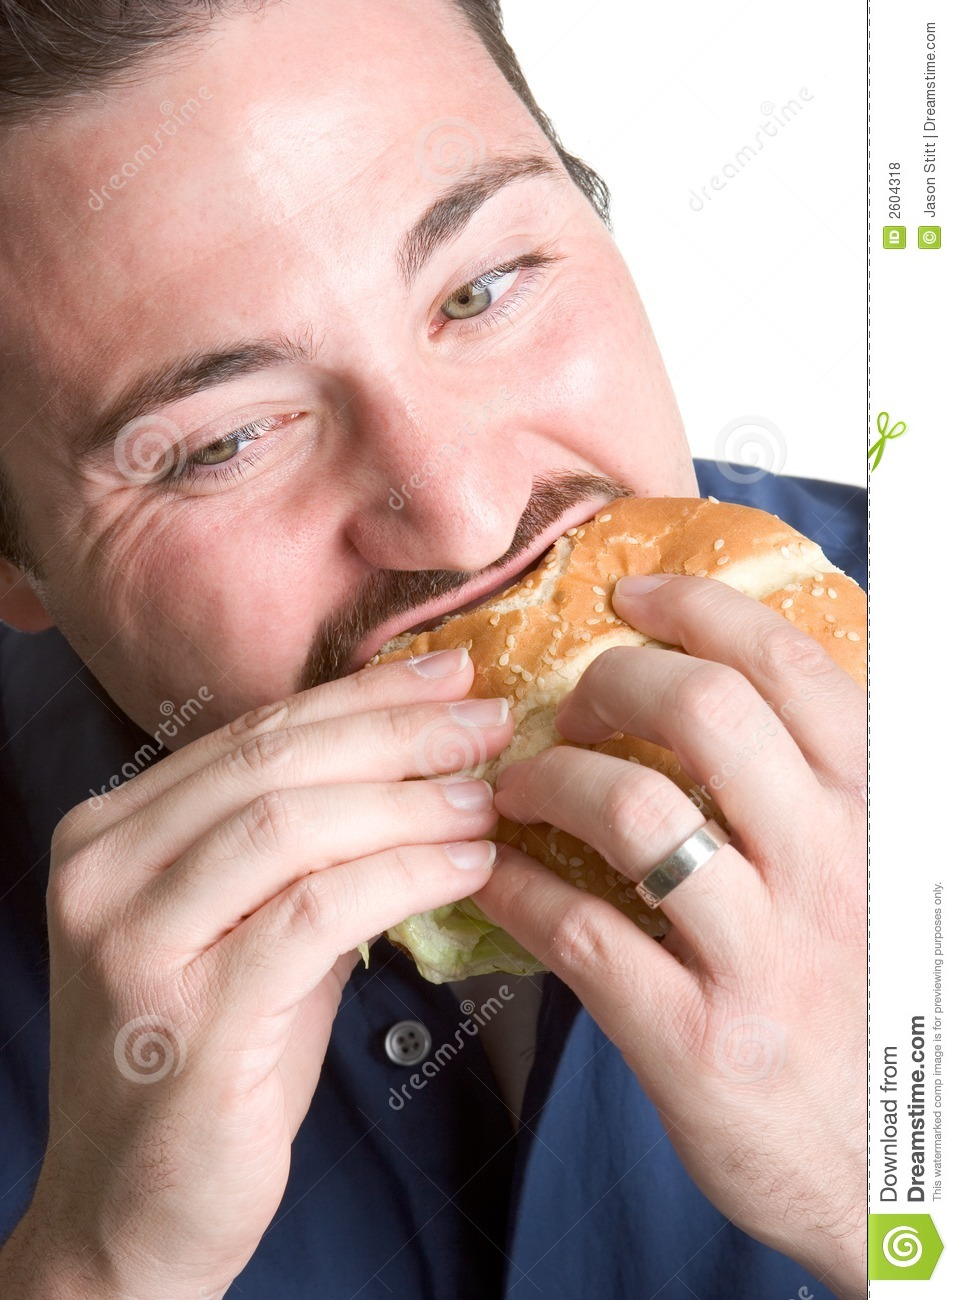eating: (13, 17, 852, 1143)
